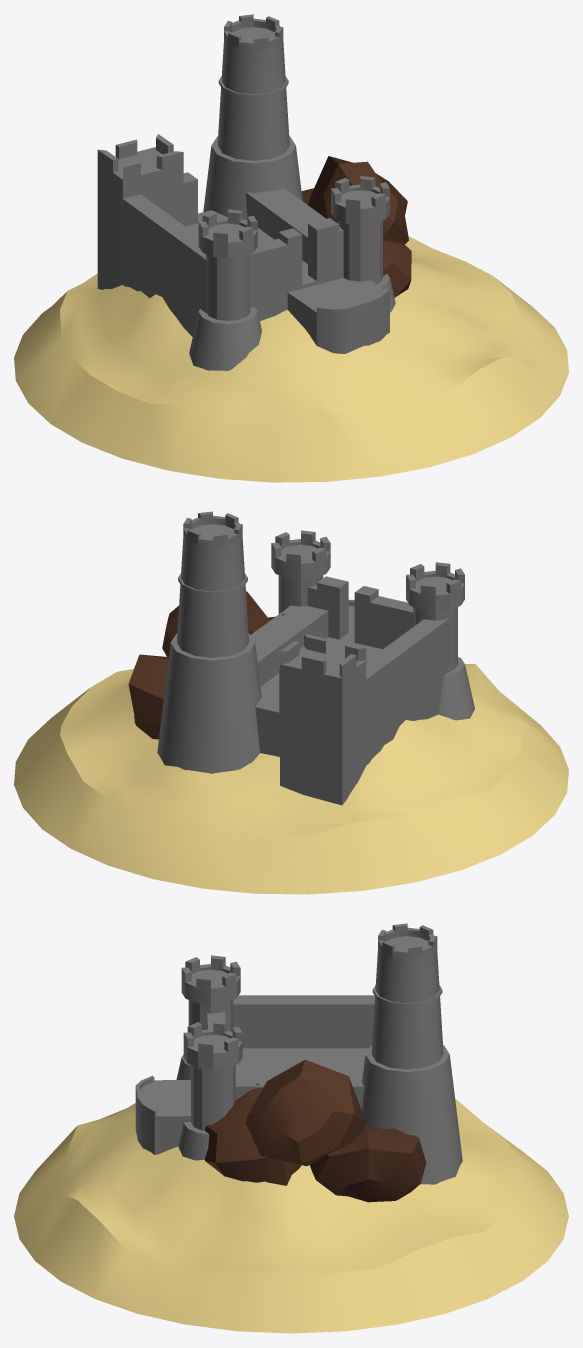
Rendered from CAstleIslandLowPoly 2 .fbx.
3 views of the same model, one above another, from view 1: azimuth 30°, elevation 25°; view 2: azimuth 150°, elevation 25°; view 3: azimuth 270°, elevation 25° (orthographic).
Parts seen in each view (by area): view 1: Cube; view 2: Cube; view 3: Cube.
Part boxes in pixels (x1,y1,x2,y2): Cube: [14, 14, 568, 482]; Cube: [14, 511, 568, 894]; Cube: [14, 923, 568, 1333].
Size of the model in its own units: 311 by 311 by 179.
